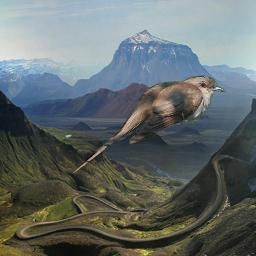Cuckoo: (72, 75, 226, 175)
